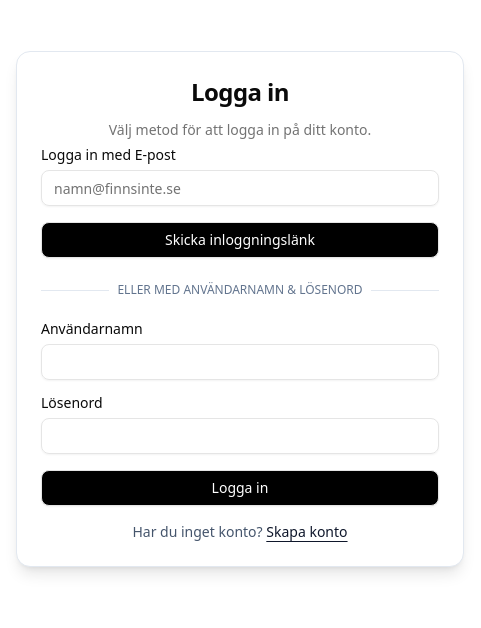
Page: Login › borde hantera oförväntade errors för användarnamn login
Type "user" into the field labelled "Användarnamn" at coordinates (240, 362), box [41,344,439,380]
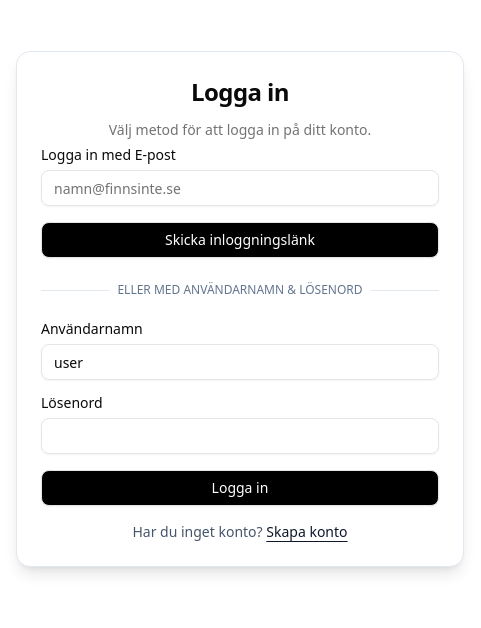
Type "behövervaraminståttatecken" into the password field labelled "Lösenord" at coordinates (240, 436), box [41,418,439,454]
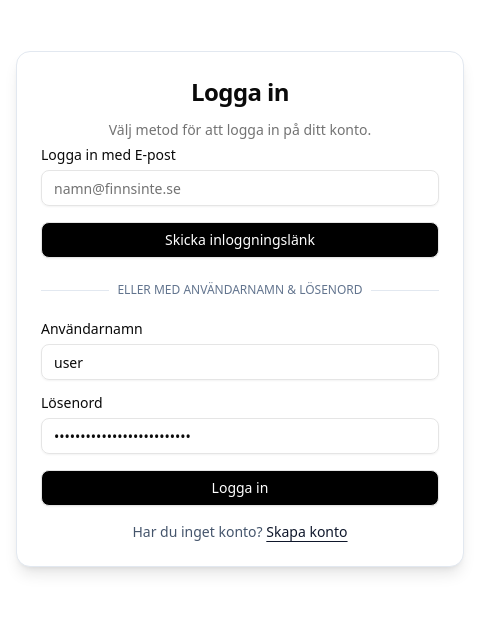
Click the button "Logga in" at coordinates (240, 488), box [41,470,439,506]
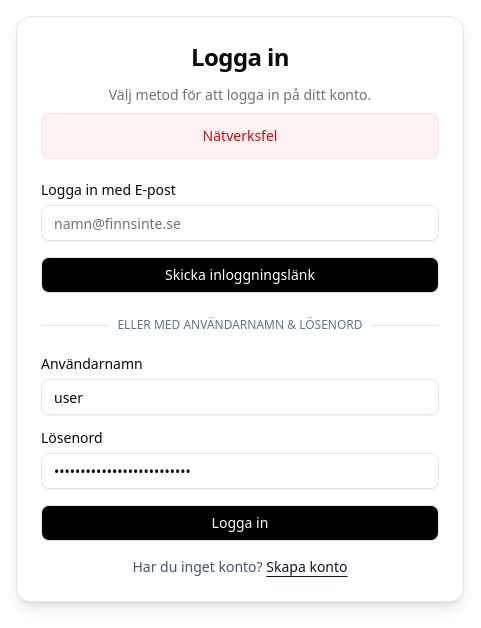
Check: the text "Nätverksfel" is shown, box [41,113,439,159]
